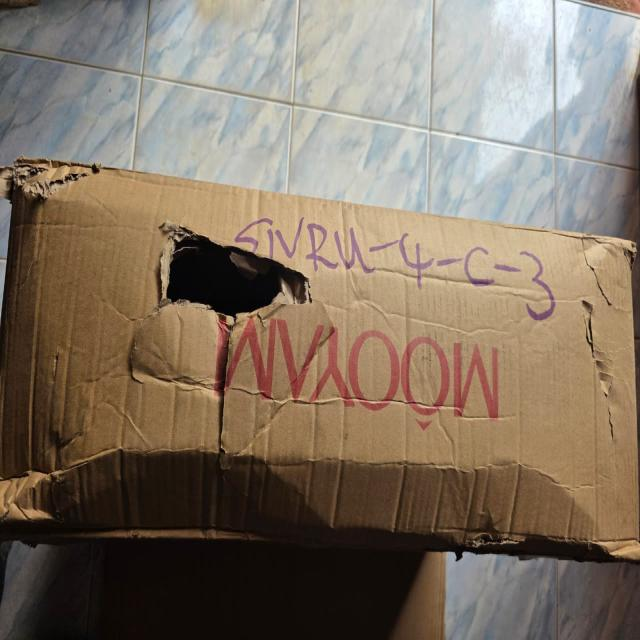carton_box: (1, 135, 640, 609)
package_damage: (129, 196, 318, 462), (427, 483, 640, 594), (562, 208, 640, 459), (0, 128, 128, 221), (0, 435, 81, 563)
